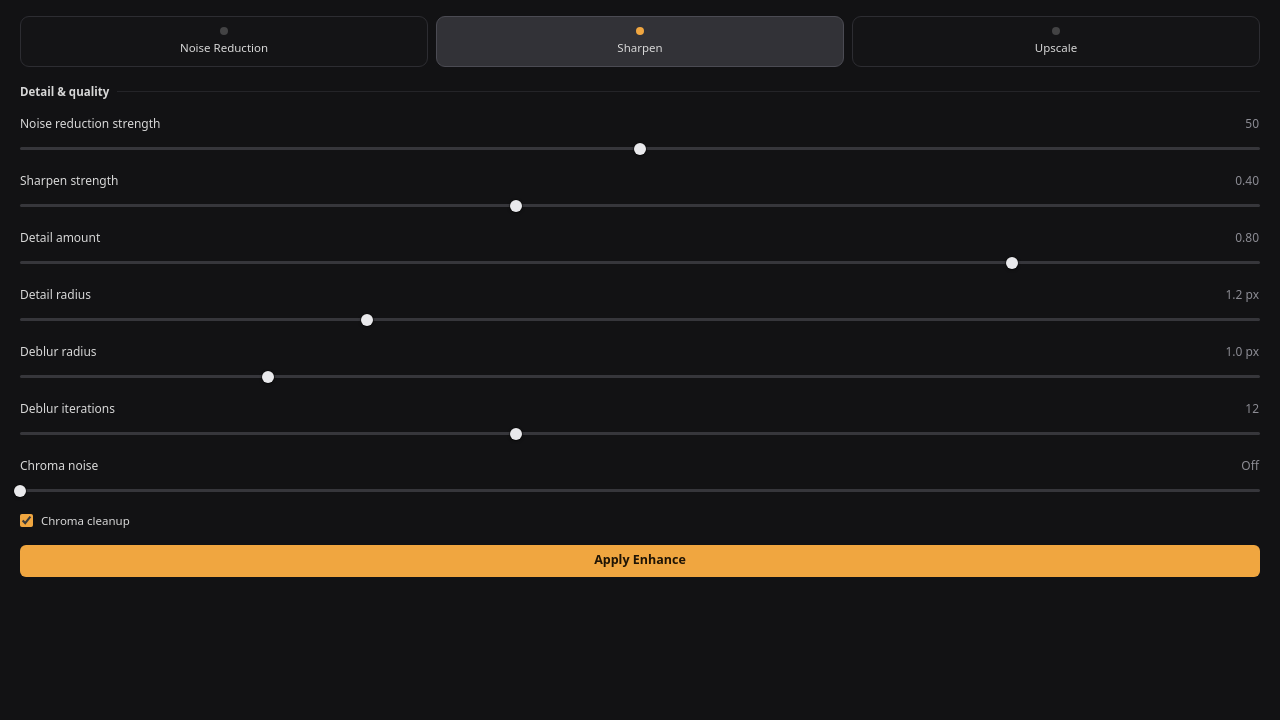
Scenario: EnhanceModuleComponent — upscale feasibility (160 MP output cap) › disables ×4 with an explanatory title for a 20 MP (5200×3904) image; ×2 stays enabled
The width and height of the screenshot is (1280, 720).
Click the button "Upscale" at [1056, 42], box [852,16,1260,67]
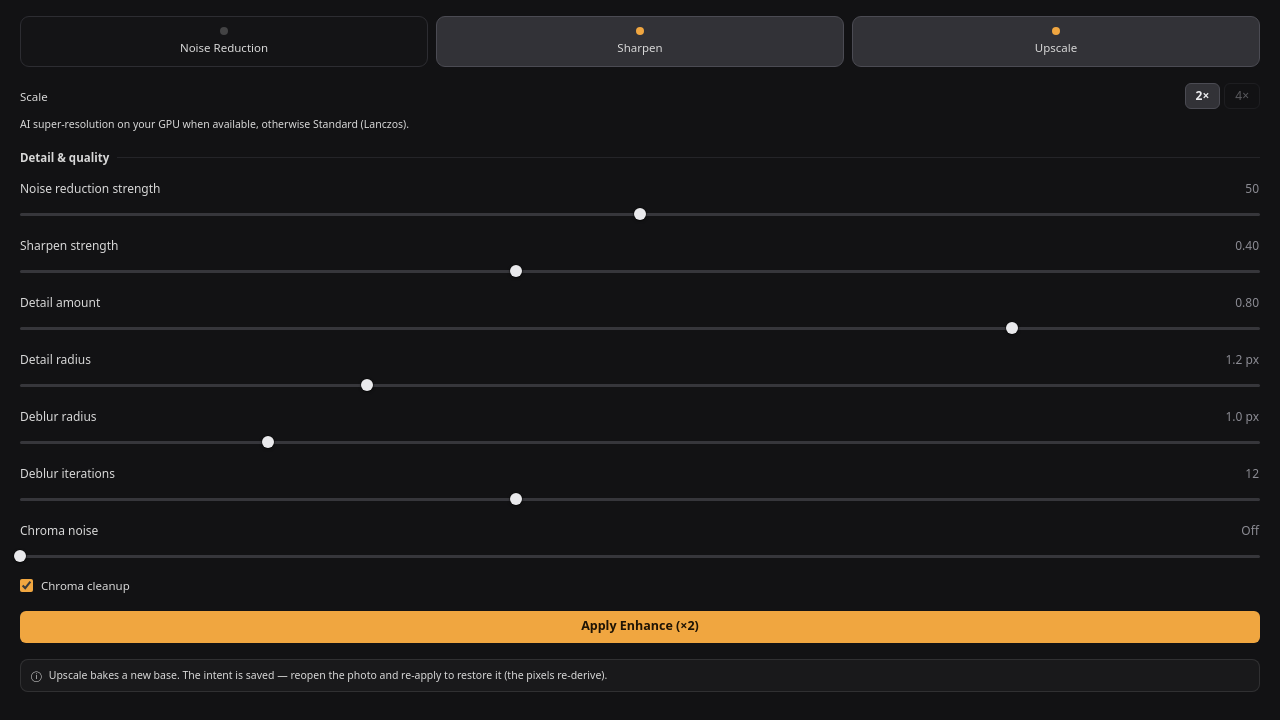
Result: the button "4×" is disabled at [1224,83,1260,109]
Result: the button "2×" is enabled at [1184,83,1220,109]
